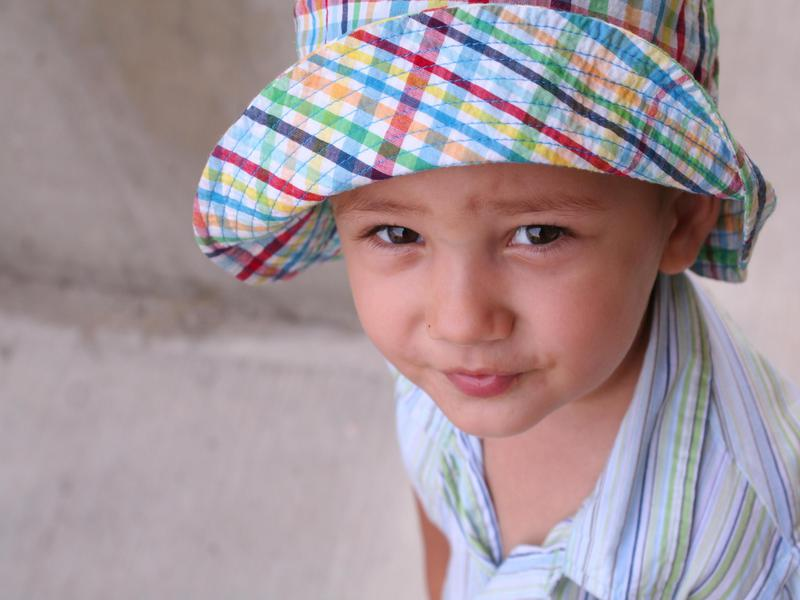person: (205, 3, 792, 600)
